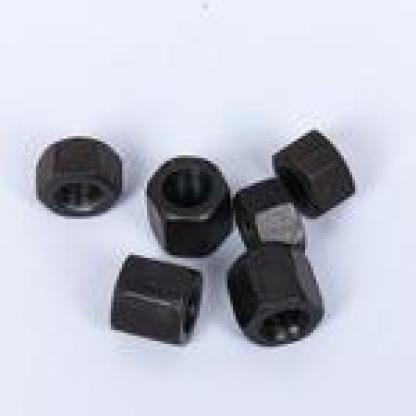FOD: (222, 240, 327, 351), (105, 252, 208, 350), (146, 152, 237, 260), (272, 126, 358, 223), (29, 136, 129, 219), (232, 170, 312, 265)
